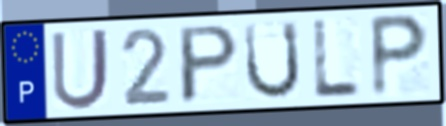2: (118, 26, 173, 109)
L: (312, 17, 365, 101)
P: (367, 12, 431, 100), (177, 22, 242, 107)
U: (49, 25, 112, 113), (242, 19, 304, 102)
